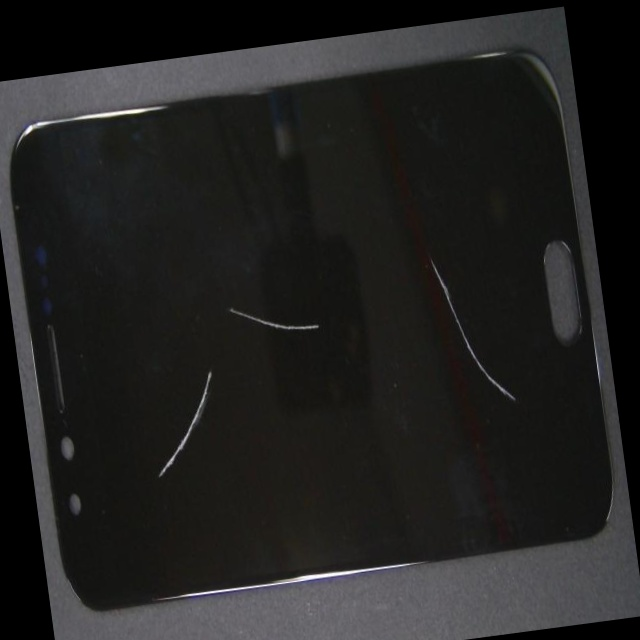scratch: (297, 265, 627, 521), (124, 133, 290, 553), (205, 172, 450, 440)
